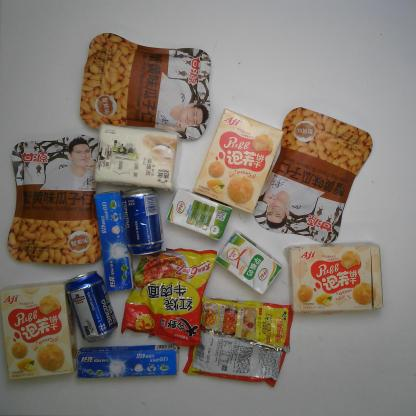Alcohol: (65, 272, 119, 342), (123, 186, 160, 253)
Dessert: (200, 107, 275, 210), (0, 283, 75, 382), (286, 242, 381, 311)
Dried Fruit: (256, 109, 374, 244), (83, 33, 215, 139), (9, 136, 104, 266)
Instant Noodles: (184, 294, 293, 385), (123, 240, 214, 348)
Milk: (216, 232, 284, 294), (168, 188, 235, 240)
Personal Hygiene: (92, 184, 136, 292), (74, 345, 177, 375)
Tissue: (93, 123, 175, 187)
